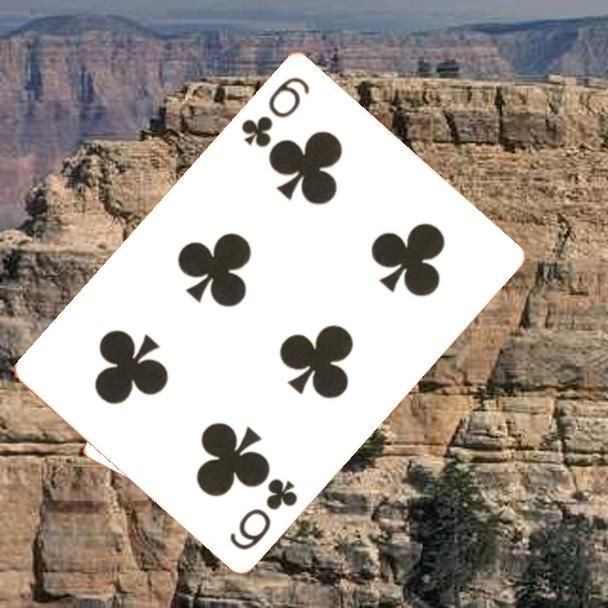c06: (225, 474, 301, 553), (237, 72, 313, 150)
